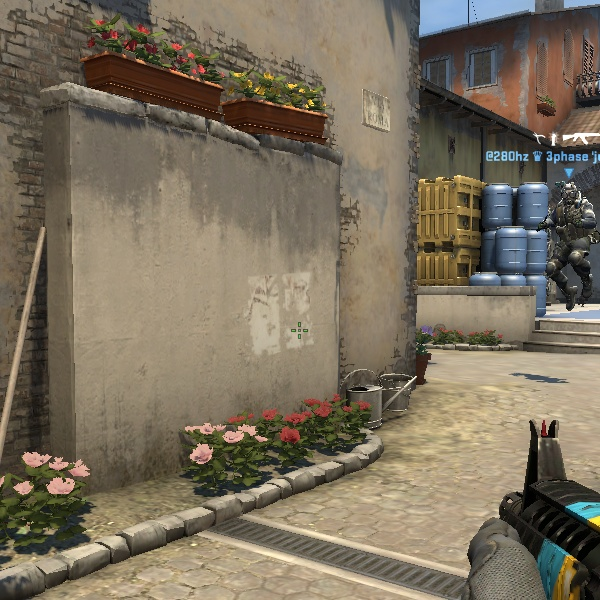ct_body: (530, 176, 598, 315)
ct_head: (552, 179, 584, 210)
